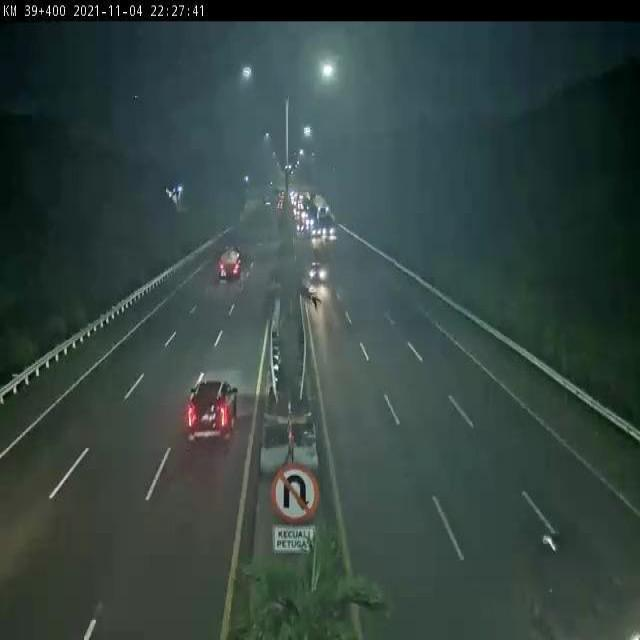car: (189, 378, 239, 446), (307, 258, 329, 286)
truck: (217, 243, 243, 280)
